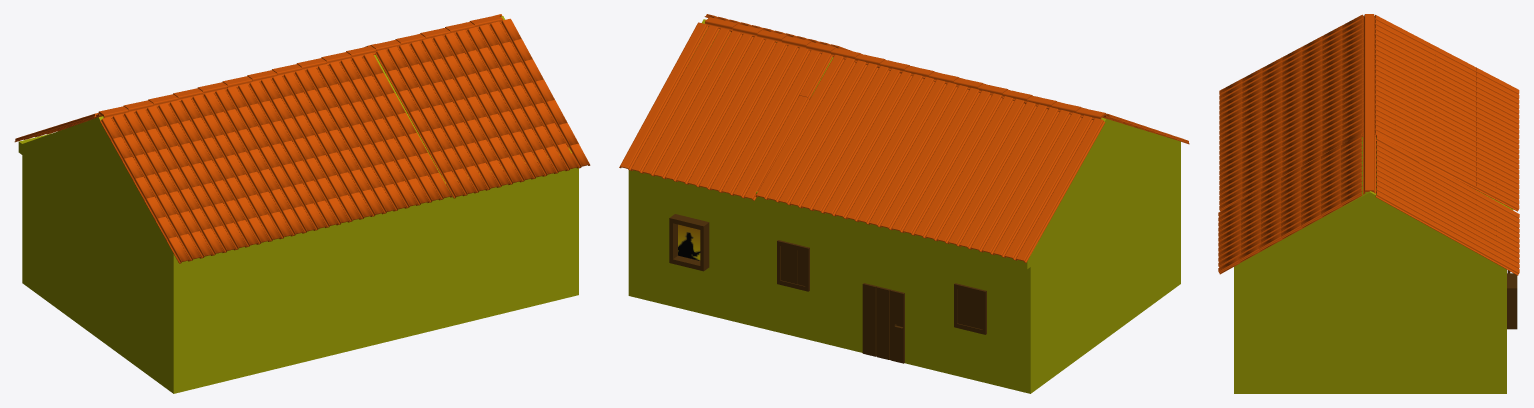
Rendered from Casa da fazenda.fbx.
The picture shows the model from 3 angles, left to right: view 1: azimuth 30°, elevation 25°; view 2: azimuth 150°, elevation 25°; view 3: azimuth 270°, elevation 25°; orthographic projection. The views are drawn at different scales.
Visible parts, largest first — view 1: Cube.050; view 2: Cube.050; view 3: Cube.050.
Boxes of the visible parts, <box> form: Cube.050: <box>14,14,590,393</box>; Cube.050: <box>619,14,1189,393</box>; Cube.050: <box>1218,14,1519,393</box>.
Size of the model in its own units: 1827 by 957 by 1287.
4 materials, 1 textured.
